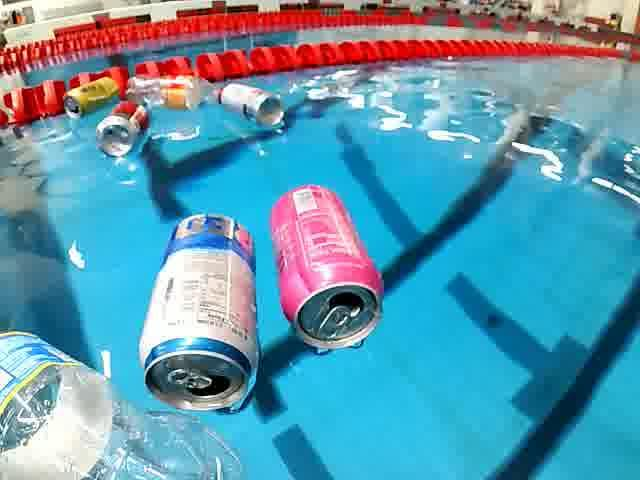Bottle: (2, 297, 252, 480), (120, 70, 234, 116)
Can: (133, 208, 264, 416), (267, 179, 389, 355), (92, 98, 152, 164), (214, 81, 290, 132), (62, 76, 122, 118)
